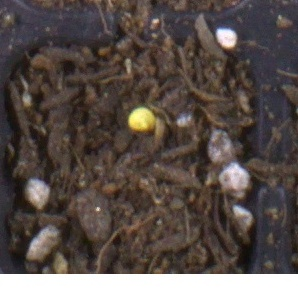chilli seed: (126, 106, 156, 133)
